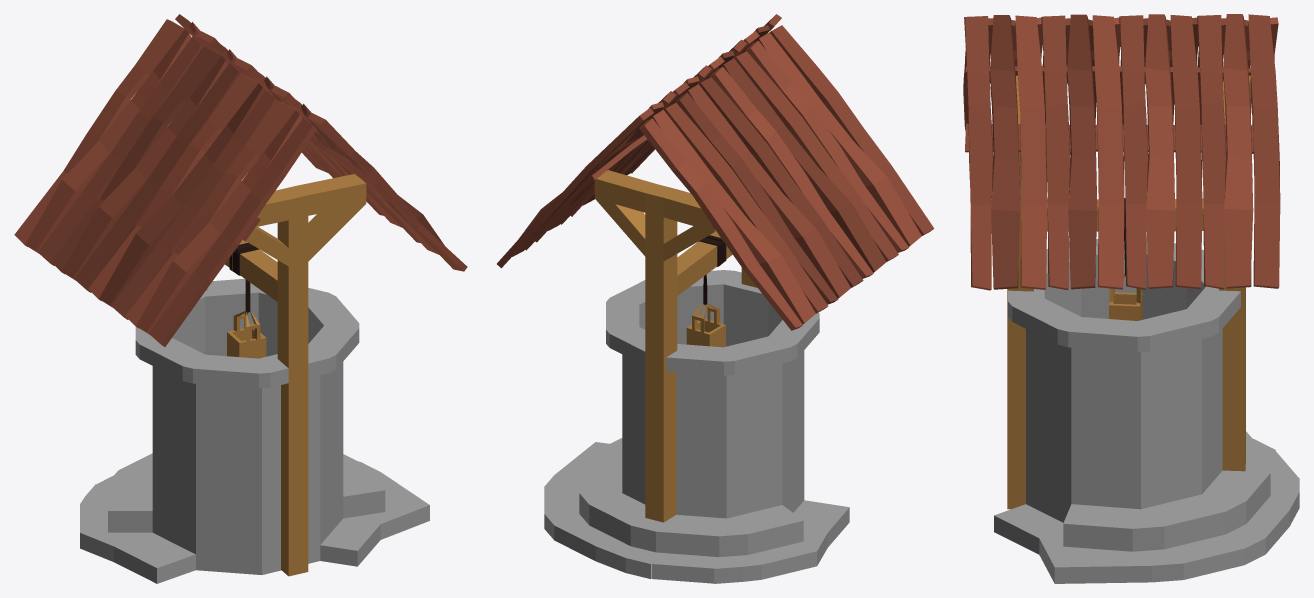
File: Brunnen_klein.fbx
3 views of the same model, side by side, from view 1: azimuth 30°, elevation 25°; view 2: azimuth 150°, elevation 25°; view 3: azimuth 270°, elevation 25° (orthographic). The views are drawn at different scales.
Parts seen in each view (by area): view 1: Brunnen; view 2: Brunnen; view 3: Brunnen.
Boxes of the visible parts, bbox=[...] form: Brunnen: bbox=[14, 14, 467, 583]; Brunnen: bbox=[497, 14, 934, 583]; Brunnen: bbox=[963, 14, 1299, 583].
Bounding box in the file's own units: 2.59 × 3.71 × 2.29.
